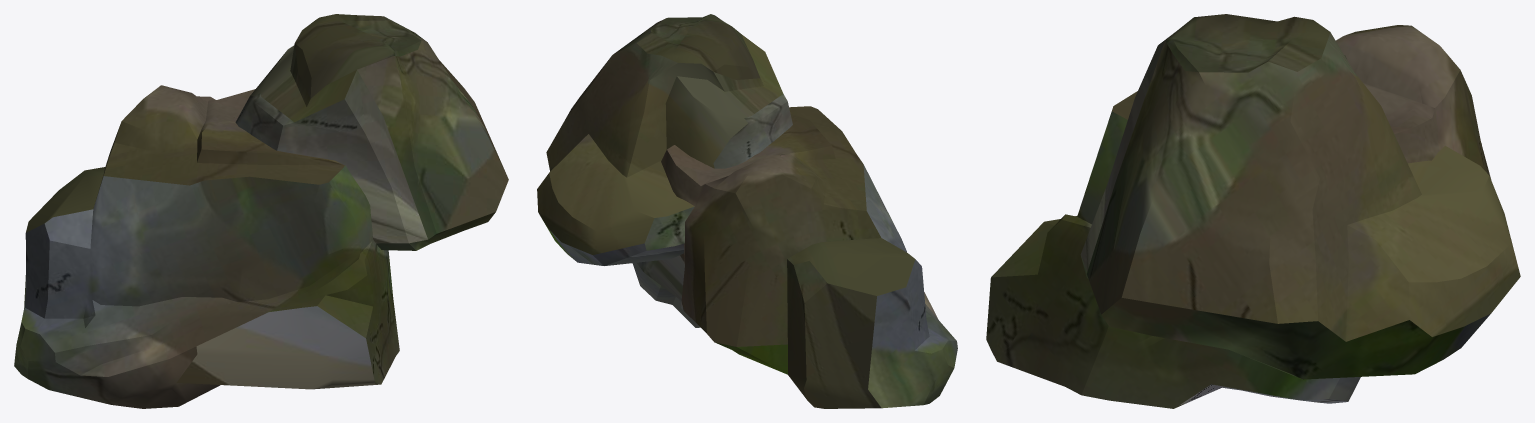
File: rocha-grande-325.glb
3 views of the same model, side by side, from view 1: azimuth 30°, elevation 25°; view 2: azimuth 150°, elevation 25°; view 3: azimuth 270°, elevation 25° (orthographic). The views are drawn at different scales.
Parts seen in each view (by area): view 1: Rocha_Grande; view 2: Rocha_Grande; view 3: Rocha_Grande.
Part boxes in pixels (box(x1,y1,x2,y2)): Rocha_Grande: box(14, 14, 508, 408); Rocha_Grande: box(537, 14, 957, 408); Rocha_Grande: box(986, 14, 1520, 408).
Size of the model in its own units: 4.9 by 3.25 by 3.65.
1 material, 1 textured.
